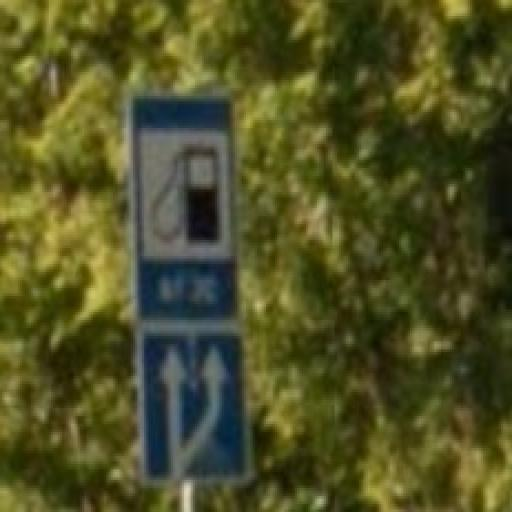traffic_sign: (127, 92, 243, 324)
